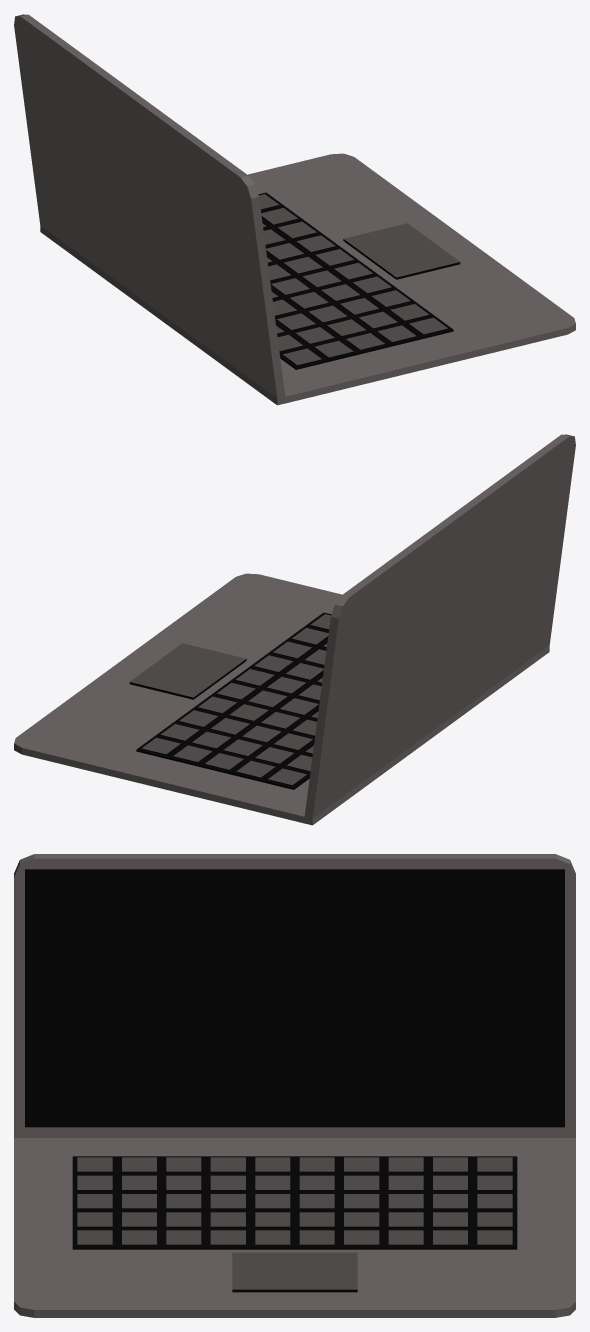
File: portatil.fbx
3 views of the same model, one above another, from view 1: azimuth 30°, elevation 25°; view 2: azimuth 150°, elevation 25°; view 3: azimuth 270°, elevation 25° (orthographic). The views are drawn at different scales.
Parts seen in each view (by area): view 1: Plane.004; view 2: Plane.004; view 3: Plane.004.
Boxes of the visible parts, <box> form: Plane.004: <box>14,14,575,405</box>; Plane.004: <box>14,434,575,825</box>; Plane.004: <box>14,854,575,1317</box>.
Size of the model in its own units: 57.69 by 37.76 by 71.
